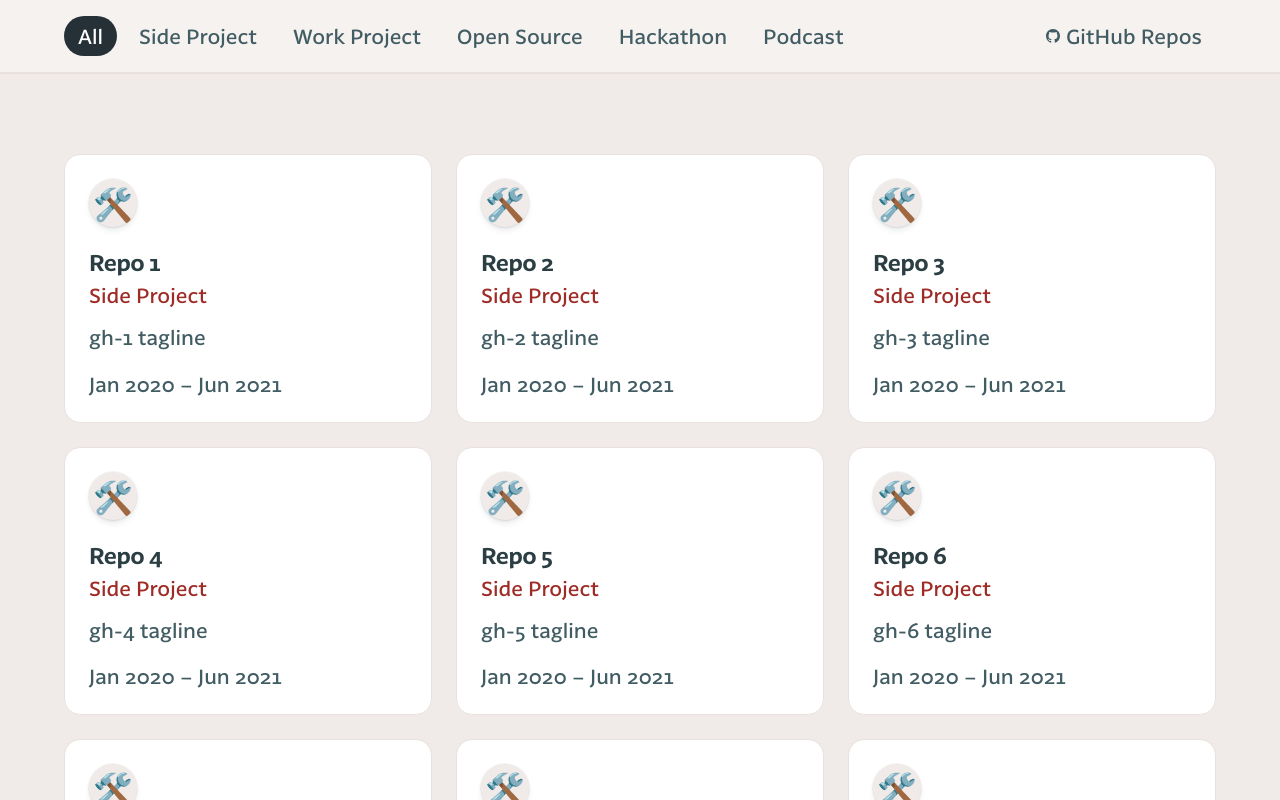
Test: ProjectsGridClient › paginates filtered results and resets the page when filters change
This screenshot has width=1280, height=800.
Click the button "GitHub Repos" at point(1124, 36), box [1032,16,1216,56]
(page scrolled)
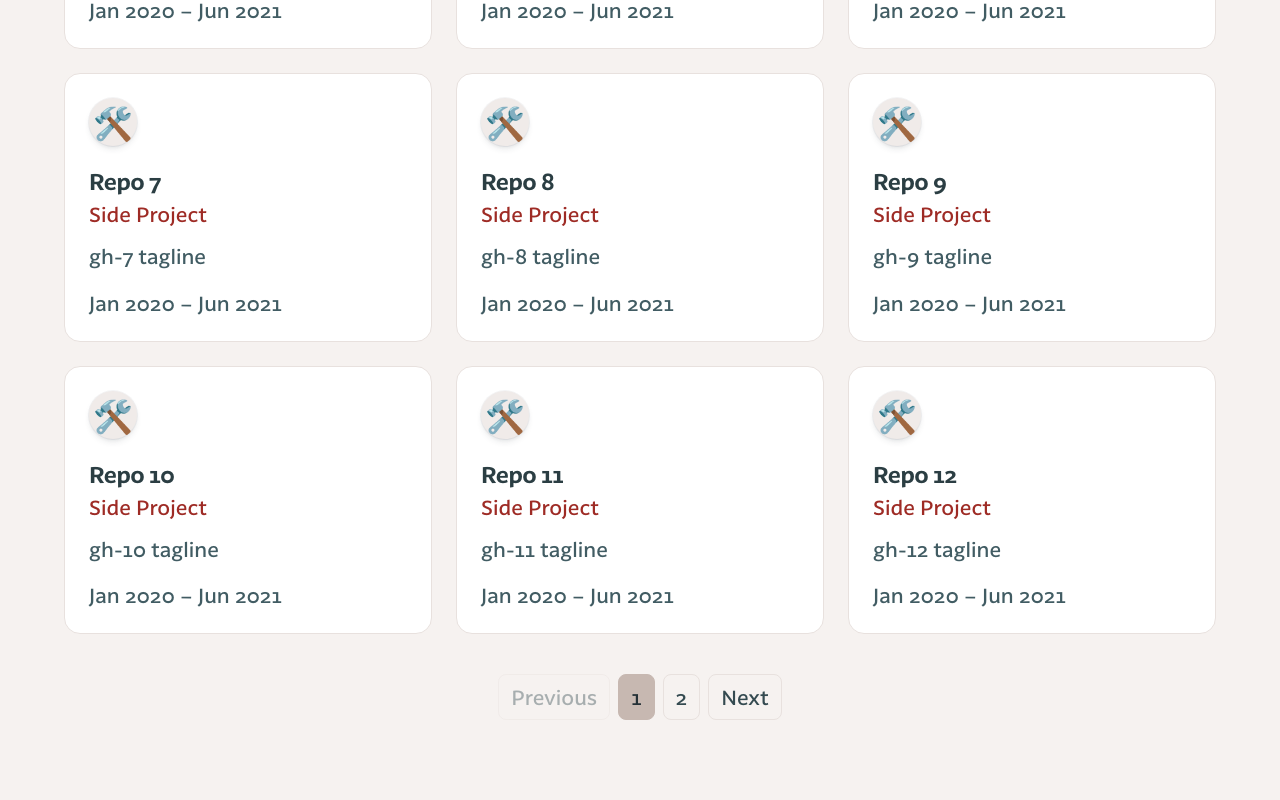
Click the button "2" at point(681, 697), box [663,674,700,720]
(page scrolled)
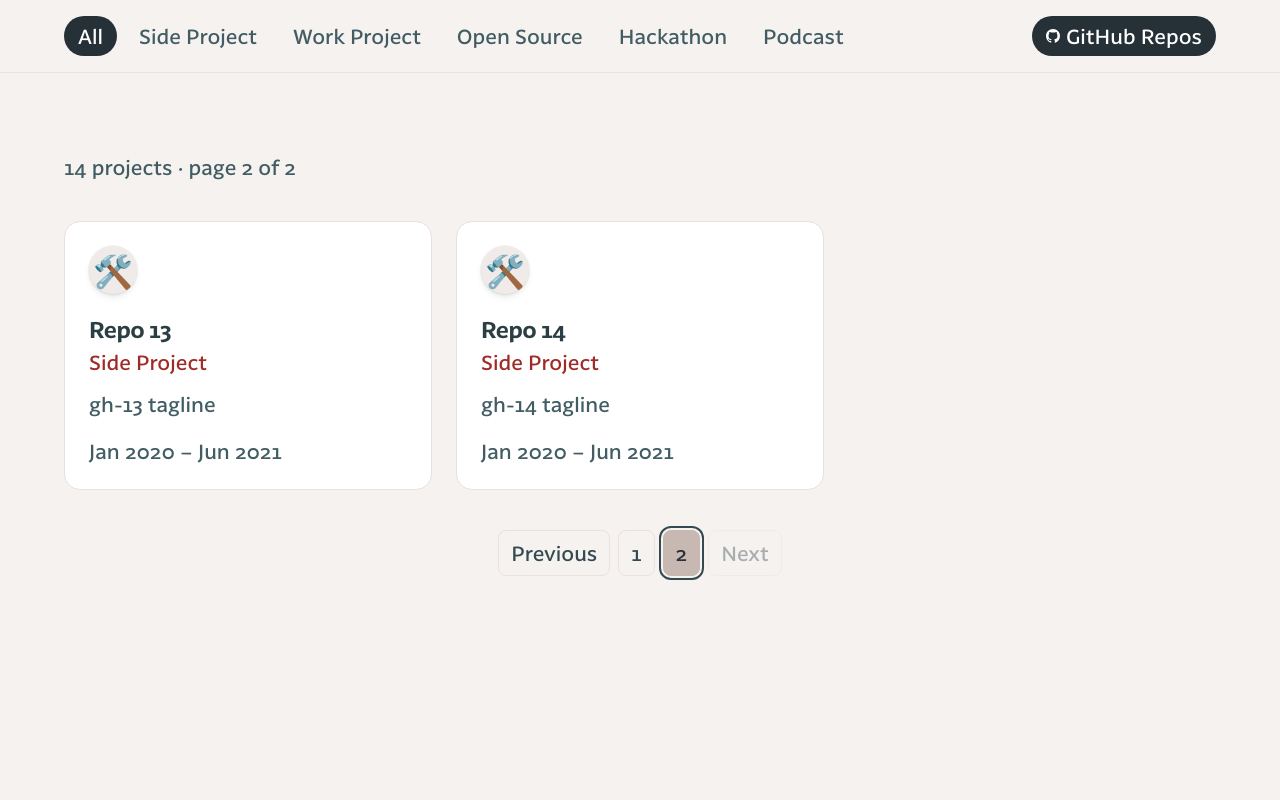
Now the text "14 projects · page 2 of 2" is shown, box [64,155,296,179]
Now the number of links is 2, box [65,222,431,488]; [457,222,823,488]
Click the button "Side Project" at point(198, 36), box [125,16,271,56]
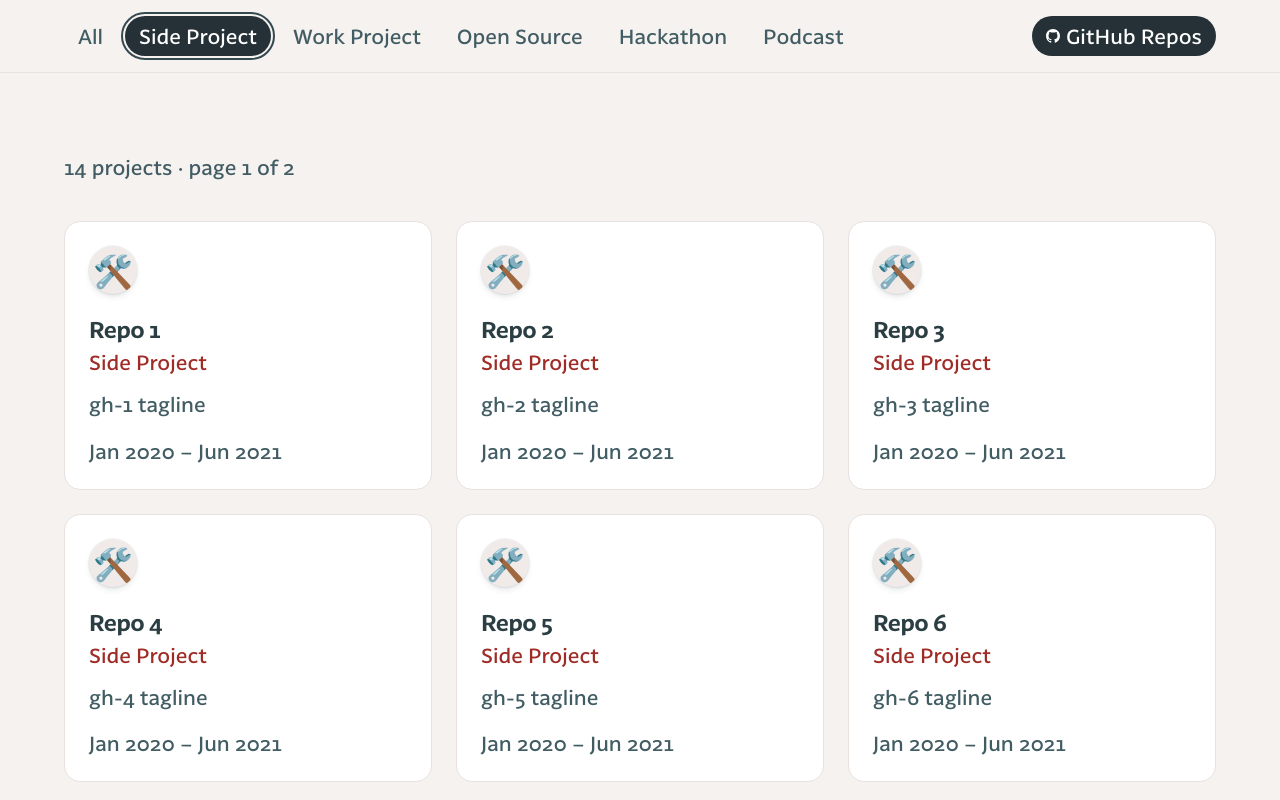
Now the text "14 projects · page 1 of 2" is shown, box [64,155,294,179]
Click the button "GitHub Repos" at point(1124, 36), box [1032,16,1216,56]
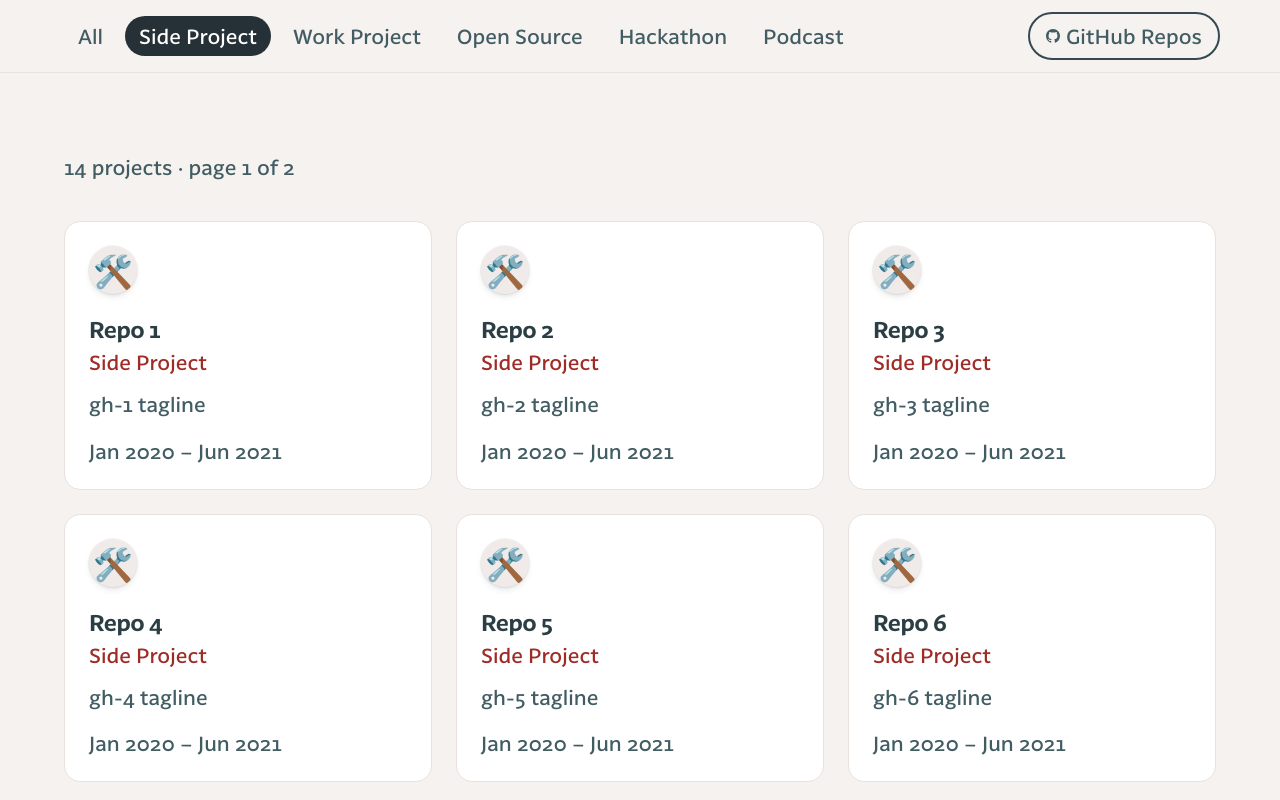
Click the button "All" at point(91, 36), box [64,16,117,56]
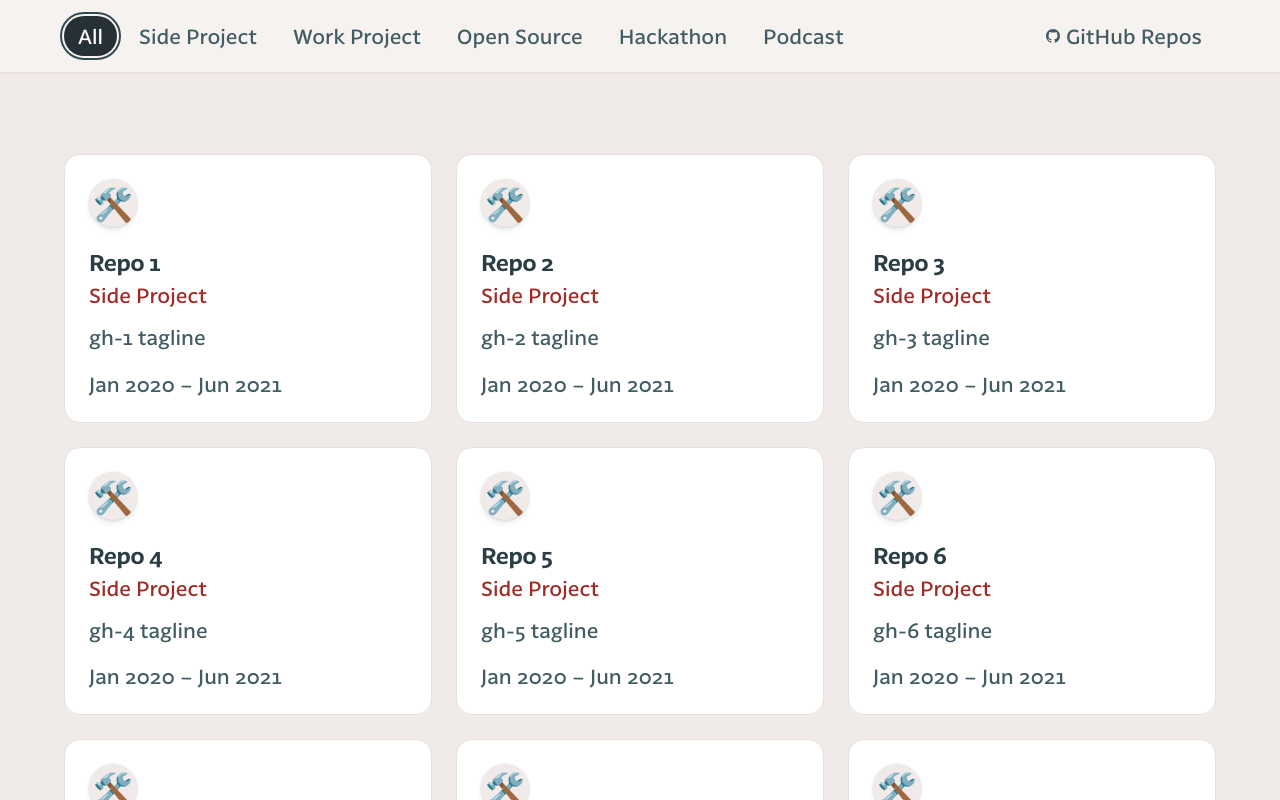
Now the number of links is 12
Now the text "14 projects" is gone
